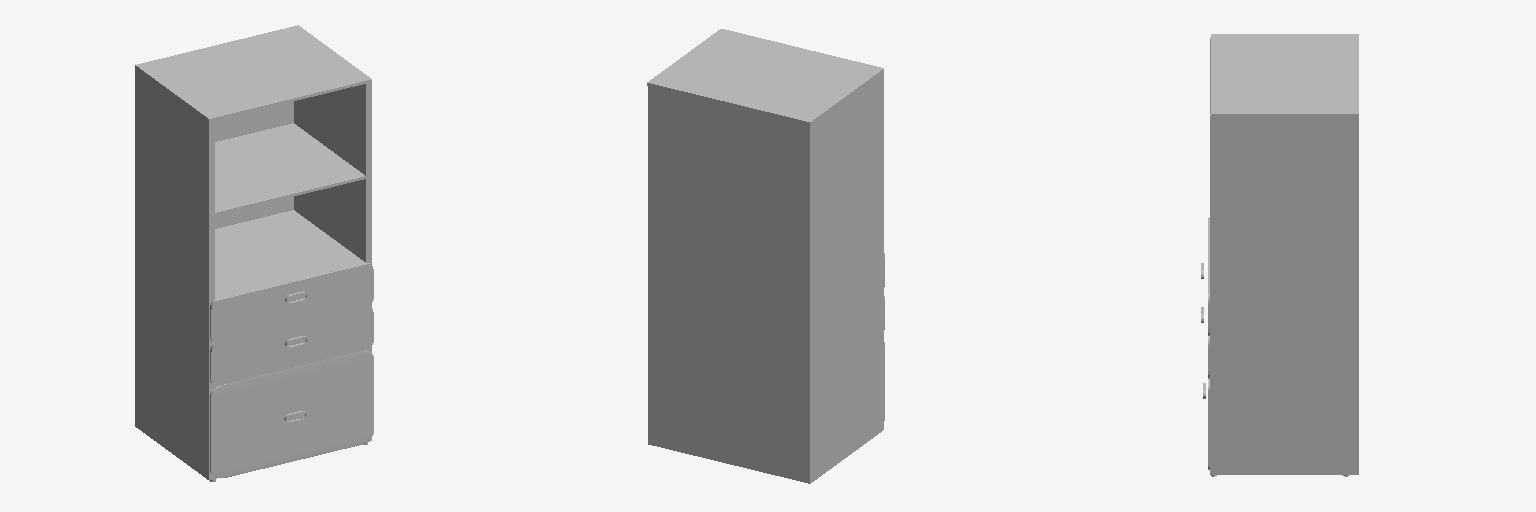
File: StorageFurniture_StuvaFritidsBookcaseGreen.obj
The picture shows the model from 3 angles: view 1: azimuth 30°, elevation 25°; view 2: azimuth 150°, elevation 25°; view 3: azimuth 270°, elevation 25°; orthographic projection.
Visible parts, largest first — view 1: obj_0; view 2: obj_0; view 3: obj_0.
Part boxes in pixels (x1,y1,x2,y2): obj_0: (135, 25, 373, 481); obj_0: (647, 29, 884, 483); obj_0: (1201, 34, 1358, 476).
Bounding box in the file's own units: 60 × 128 × 50.